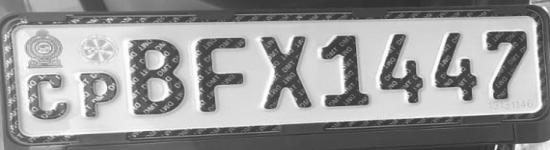1: (317, 30, 373, 113)
4: (377, 29, 430, 112), (429, 30, 481, 108)
7: (481, 24, 534, 109)
B: (119, 34, 190, 119)
C: (28, 71, 70, 122)
F: (190, 33, 255, 118)
P: (74, 68, 122, 119)
X: (253, 31, 318, 118)
